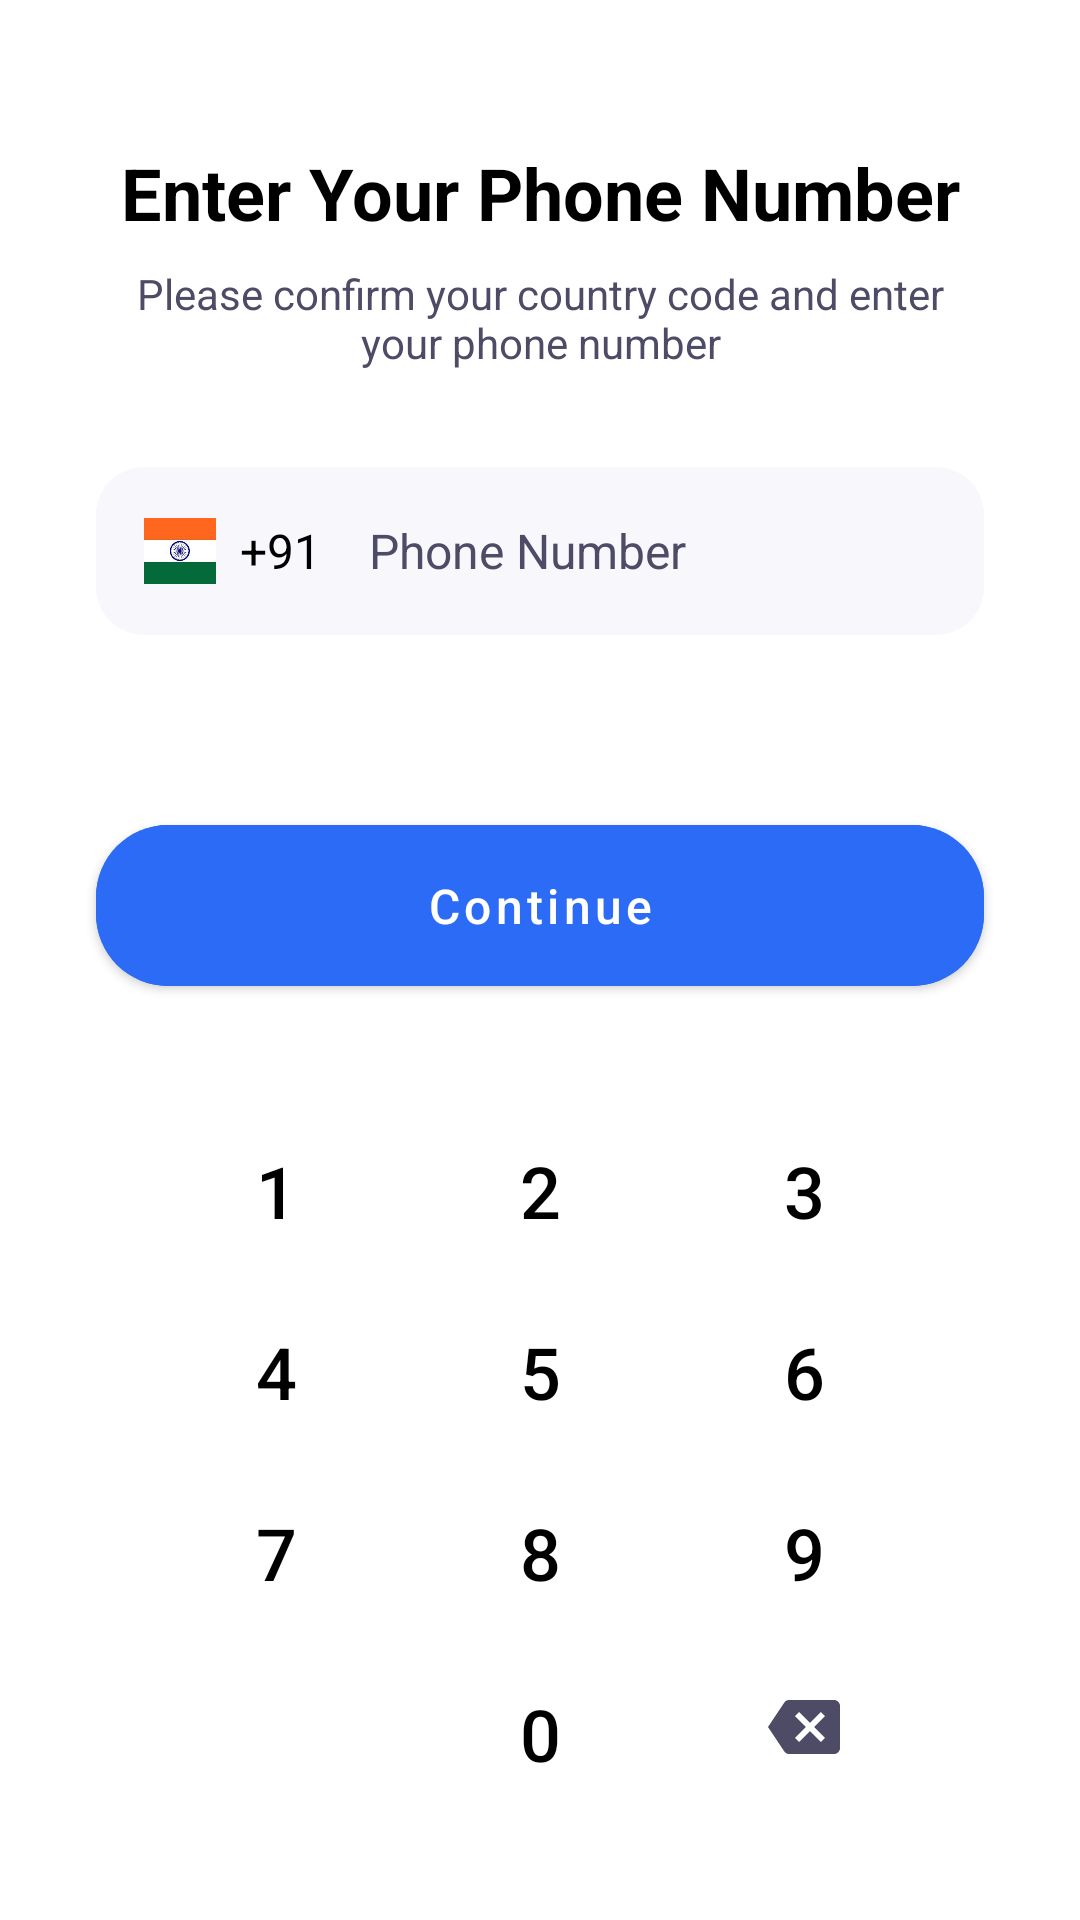

Screen size 1080 × 1920. Icon name, then its center in pixels as (x=x, y=y):
Delete number: (x=804, y=1727)
india: (x=180, y=551)
